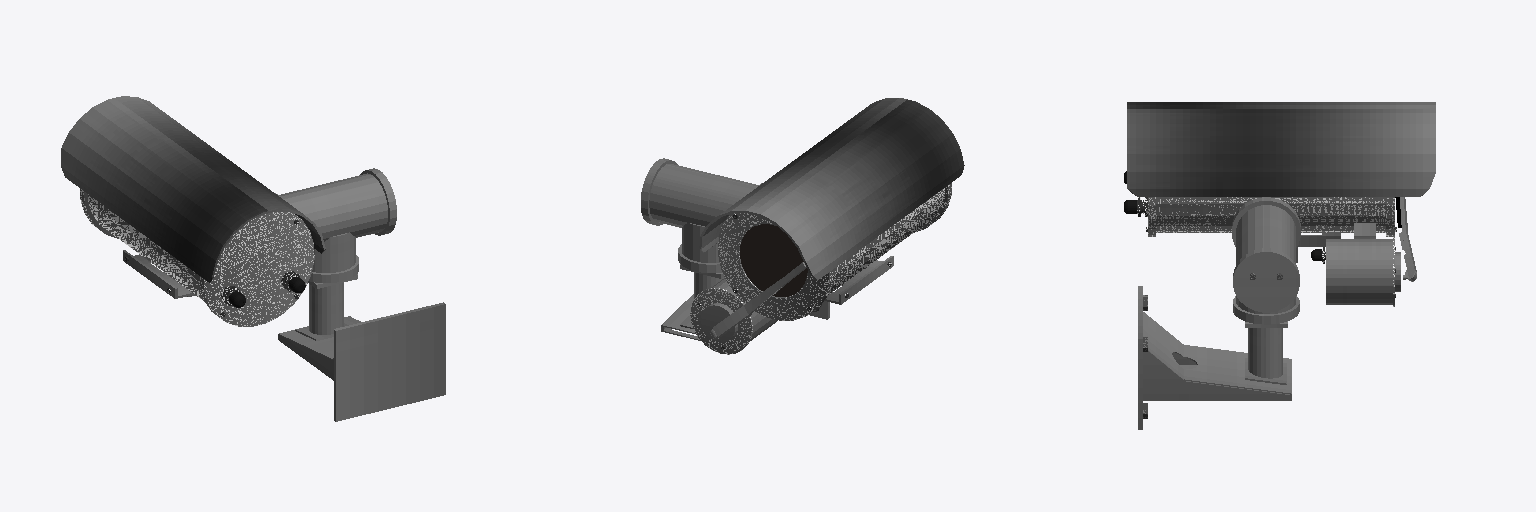
3 views of the same model, side by side, from view 1: azimuth 30°, elevation 25°; view 2: azimuth 150°, elevation 25°; view 3: azimuth 270°, elevation 25° (orthographic).
Visible parts, largest first — view 1: mesh10_mesh10-geometry, mesh4_mesh4-geometry, mesh15_mesh15-geometry, mesh6_mesh6-geometry, mesh9_mesh9-geometry, mesh3_mesh3-geometry, mesh13_mesh13-geometry; view 2: mesh10_mesh10-geometry, mesh15_mesh15-geometry, mesh6_mesh6-geometry, mesh21_mesh21-geometry, mesh9_mesh9-geometry, mesh13_mesh13-geometry, mesh4_mesh4-geometry, mesh20_mesh20-geometry, mesh30_mesh30-geometry; view 3: mesh10_mesh10-geometry, mesh4_mesh4-geometry, mesh15_mesh15-geometry, mesh6_mesh6-geometry, mesh21_mesh21-geometry, mesh3_mesh3-geometry, mesh9_mesh9-geometry.
Part boxes in pixels (x1,y1,x2,y2): mesh10_mesh10-geometry: (61, 96, 325, 282); mesh4_mesh4-geometry: (278, 302, 445, 421); mesh15_mesh15-geometry: (80, 189, 314, 326); mesh6_mesh6-geometry: (275, 168, 396, 241); mesh9_mesh9-geometry: (309, 232, 358, 282); mesh3_mesh3-geometry: (309, 283, 343, 334); mesh13_mesh13-geometry: (123, 250, 194, 298); mesh10_mesh10-geometry: (699, 98, 964, 280); mesh15_mesh15-geometry: (718, 183, 951, 320); mesh6_mesh6-geometry: (641, 158, 761, 227); mesh21_mesh21-geometry: (690, 278, 777, 354); mesh9_mesh9-geometry: (678, 223, 722, 272); mesh13_mesh13-geometry: (824, 256, 893, 304); mesh4_mesh4-geometry: (661, 294, 829, 340); mesh20_mesh20-geometry: (700, 303, 737, 342); mesh30_mesh30-geometry: (744, 262, 806, 314); mesh10_mesh10-geometry: (1127, 102, 1435, 196); mesh4_mesh4-geometry: (1138, 286, 1291, 429); mesh15_mesh15-geometry: (1148, 197, 1394, 236); mesh6_mesh6-geometry: (1232, 197, 1300, 312); mesh21_mesh21-geometry: (1326, 236, 1394, 306); mesh3_mesh3-geometry: (1248, 328, 1282, 378); mesh9_mesh9-geometry: (1233, 296, 1299, 324).
Size of the model in its own units: 0.5661 by 0.5227 by 0.6374.
7 materials, 1 textured.